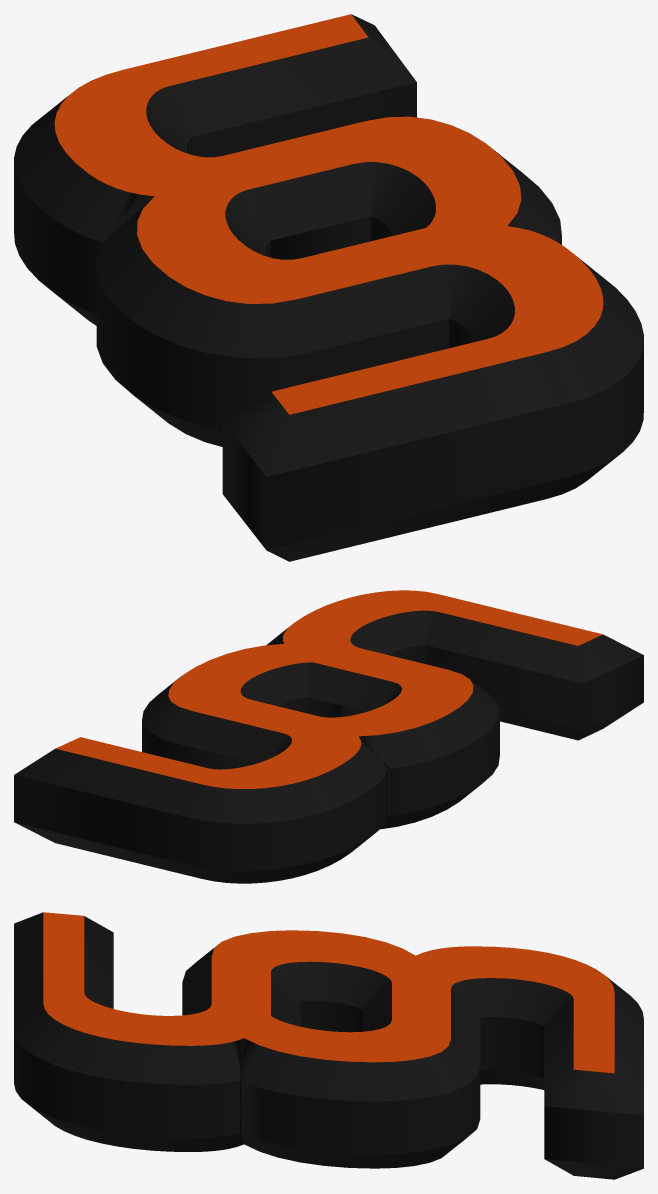
File: Paragraphe.fbx
3 renders of one model, top to bottom at view 1: azimuth 30°, elevation 25°; view 2: azimuth 150°, elevation 25°; view 3: azimuth 270°, elevation 25°, orthographic. The views are drawn at different scales.
Parts seen in each view (by area): view 1: Text; view 2: Text; view 3: Text.
Boxes of the visible parts, bbox=[...] form: Text: bbox=[14, 14, 643, 561]; Text: bbox=[14, 590, 643, 883]; Text: bbox=[14, 912, 643, 1179].
Size of the model in its own units: 0.62 by 0.16 by 0.86.
